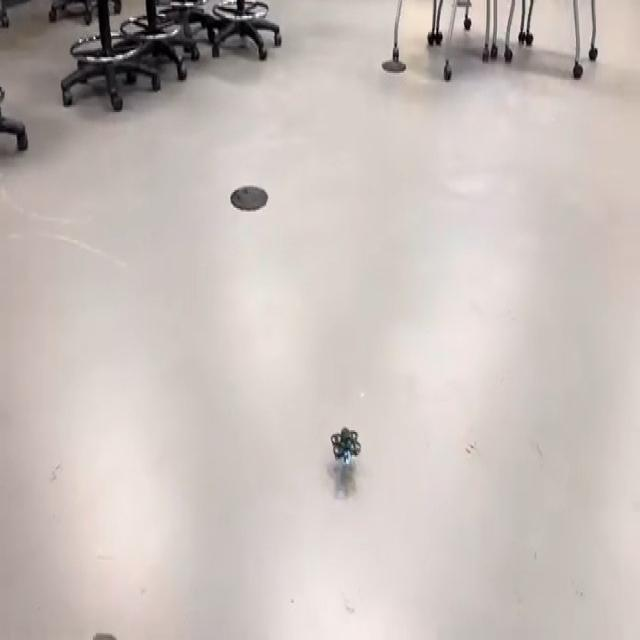drone: (322, 410, 366, 483)
